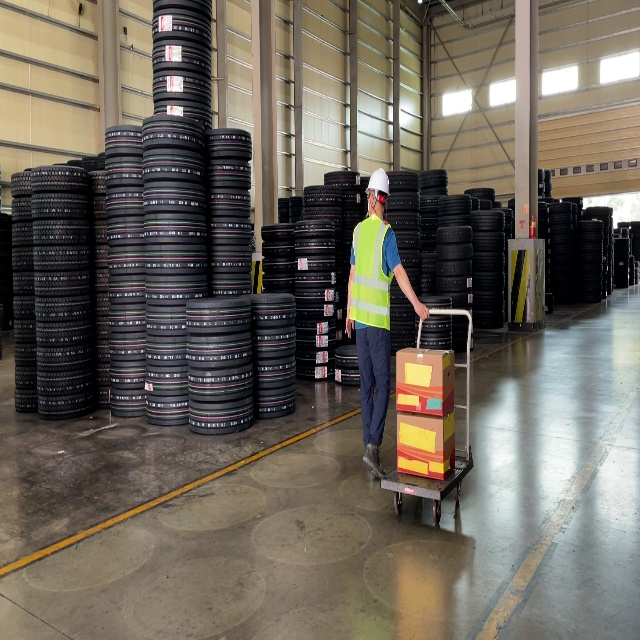Box: (396, 410, 456, 481), (396, 346, 455, 418)
Worker: (344, 167, 430, 479)
